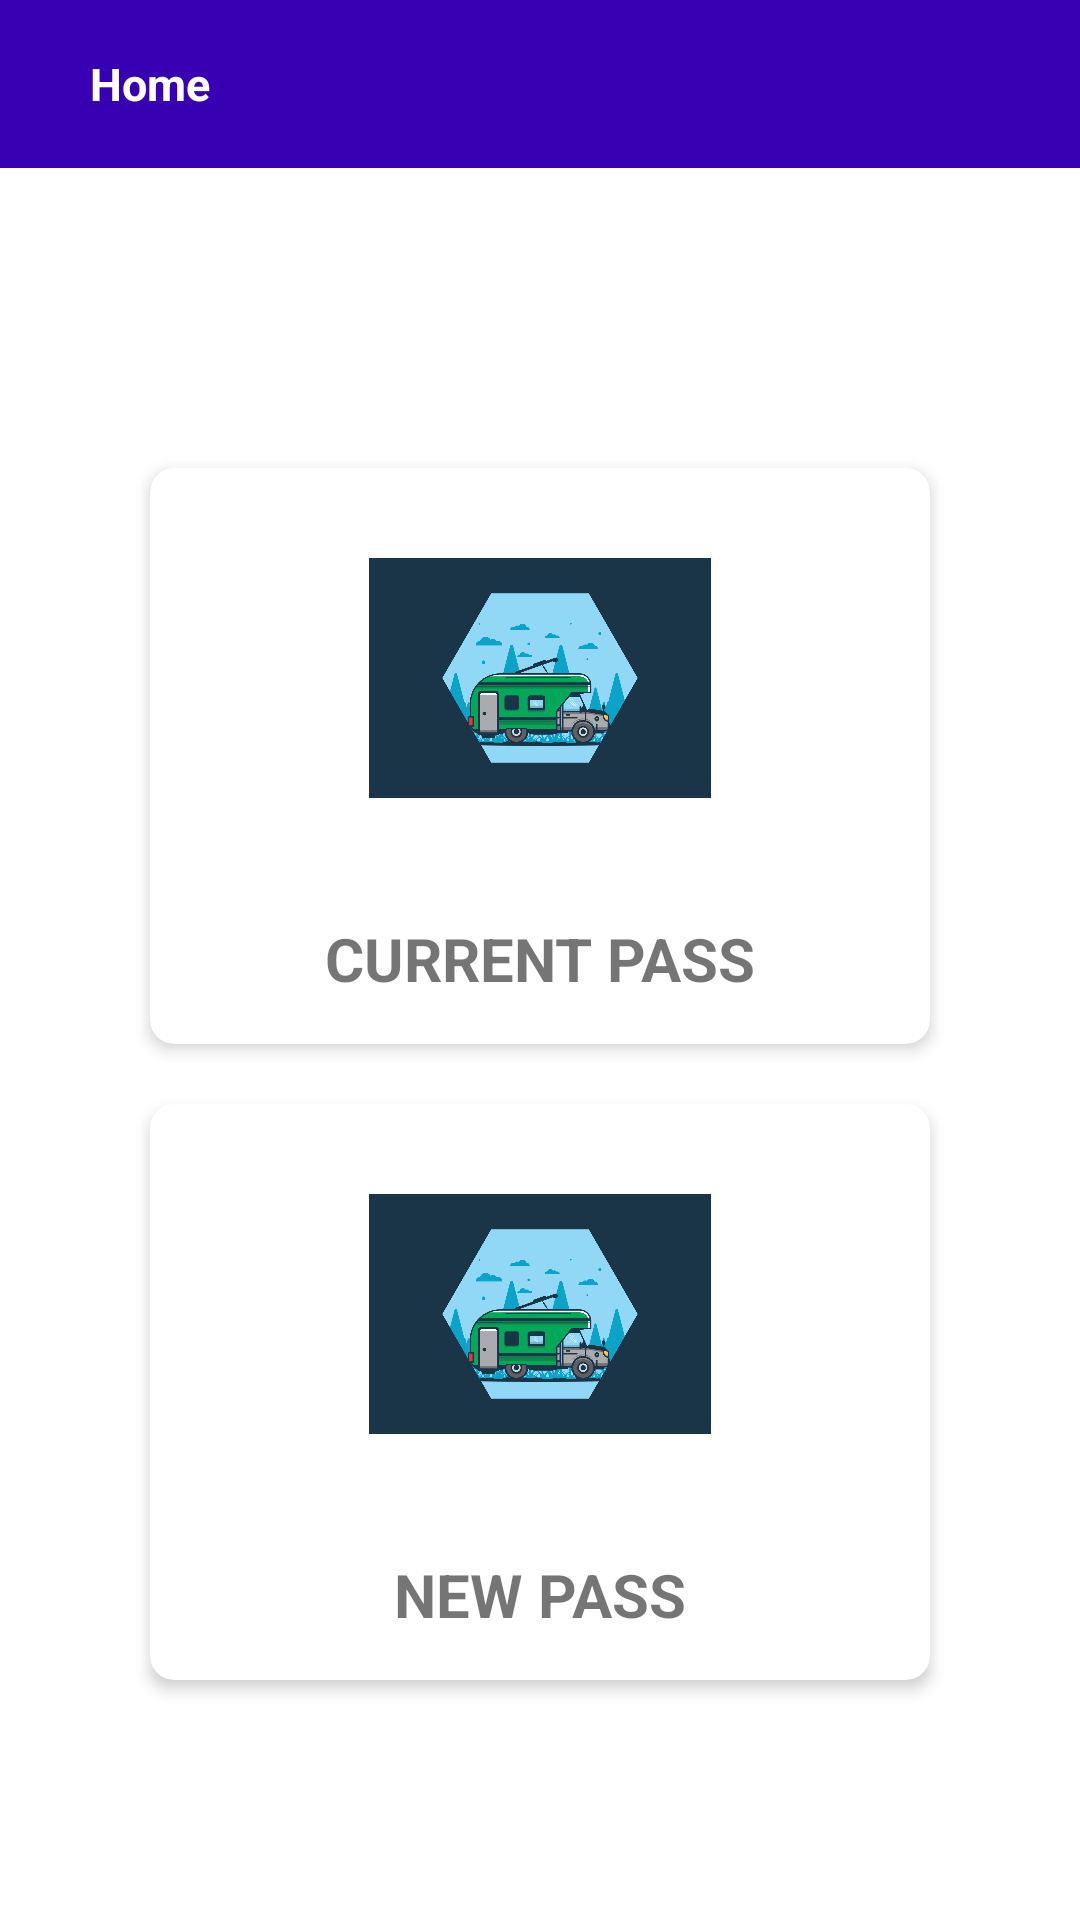

Point at icon controls on the screen. Image size 1080 × 1920, points as point (x, y).
bus pass ui: point (540, 678), point (540, 1314)
